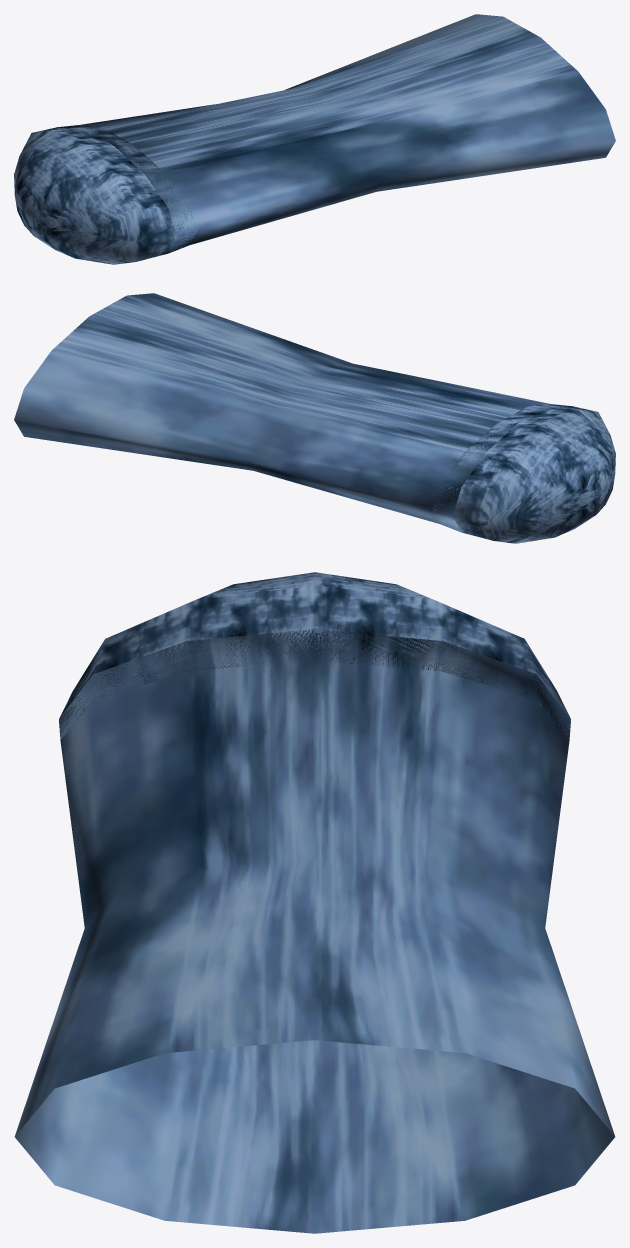
Rendered from bst54trail.obj.
3 views of the same model, one above another, from view 1: azimuth 30°, elevation 25°; view 2: azimuth 150°, elevation 25°; view 3: azimuth 270°, elevation 25° (orthographic). The views are drawn at different scales.
Parts seen in each view (by area): view 1: NEB_RIBBON_TRA0, NEBULA_RIBBON0; view 2: NEB_RIBBON_TRA0, NEBULA_RIBBON0; view 3: NEB_RIBBON_TRA0, NEBULA_RIBBON0.
Boxes of the visible parts, x1,y1,x2,y2 form: NEB_RIBBON_TRA0: (58, 14, 615, 253); NEBULA_RIBBON0: (14, 125, 197, 264); NEB_RIBBON_TRA0: (14, 293, 571, 532); NEBULA_RIBBON0: (433, 404, 615, 543); NEB_RIBBON_TRA0: (14, 629, 615, 1233); NEBULA_RIBBON0: (59, 572, 570, 739).
Size of the model in its own units: 5511 by 1067 by 2783.
Materials: 2 (2 with a texture image).
